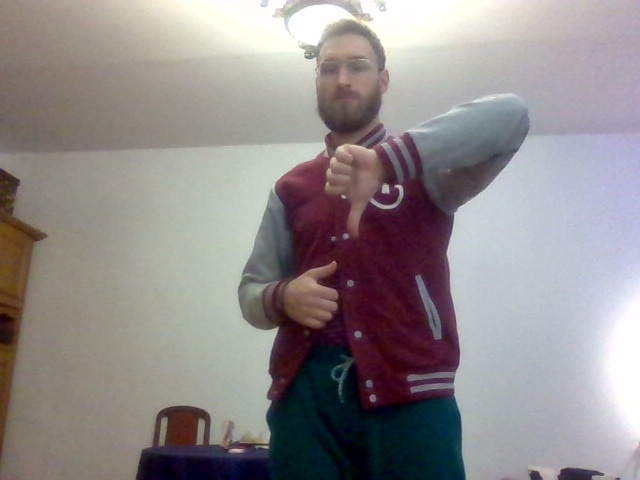ThumbsDown: (324, 144, 367, 237)
